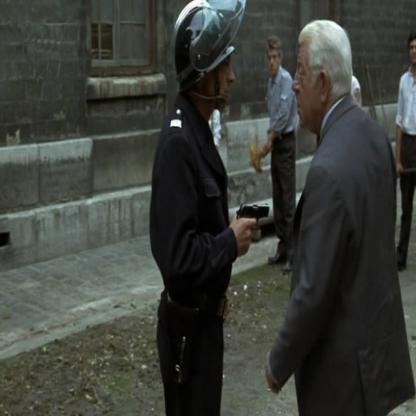gun: (234, 194, 275, 239)
